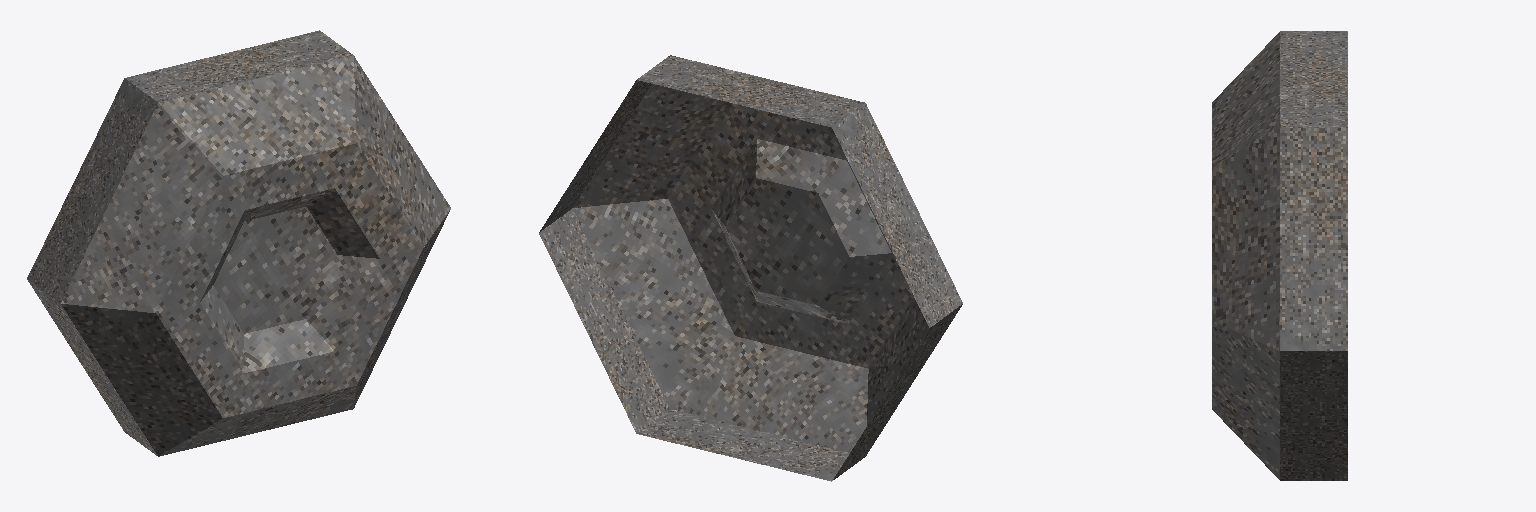
3 renders of one model, left to right at view 1: azimuth 30°, elevation 25°; view 2: azimuth 150°, elevation 25°; view 3: azimuth 270°, elevation 25°, orthographic.
Parts seen in each view (by area): view 1: hex; view 2: hex; view 3: hex.
Part boxes in pixels (x1,y1,x2,y2): hex: (27, 30, 450, 456); hex: (539, 55, 962, 481); hex: (1212, 31, 1347, 480).
Bounding box in the file's own units: 2 × 1.73 × 0.6.
1 materials, 1 textured.